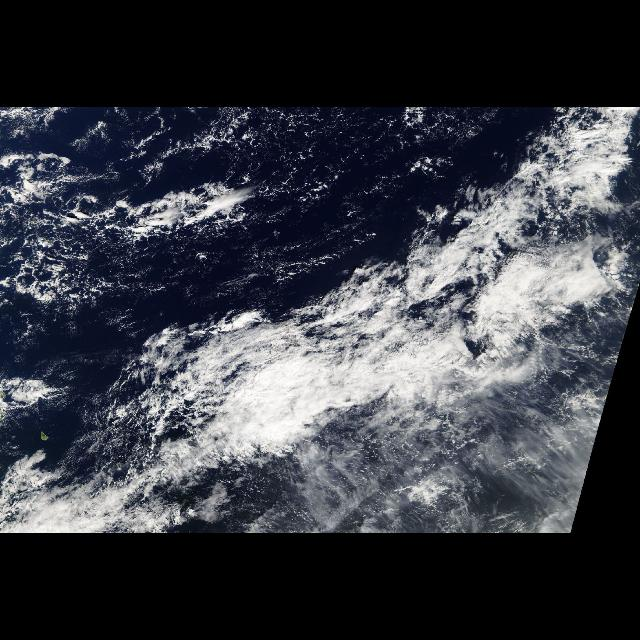Fish: (119, 135, 601, 482)
Gravel: (3, 146, 142, 324)
Sugar: (89, 126, 385, 264)
